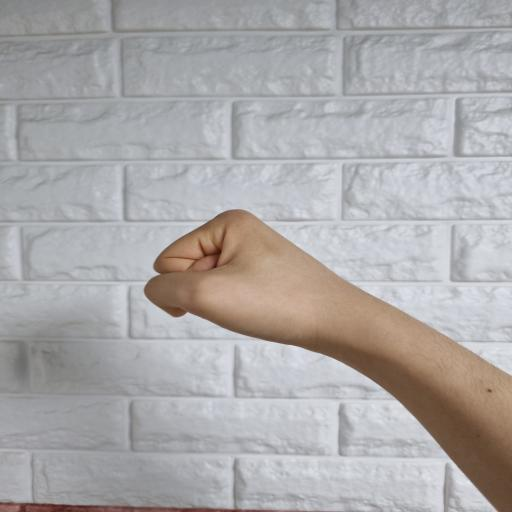Rock: (143, 209, 333, 351)
